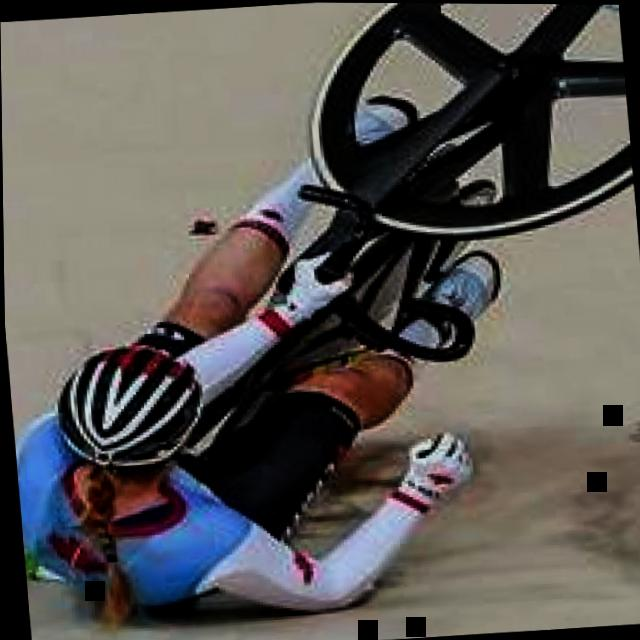Fall-Detected: (1, 84, 541, 640)
